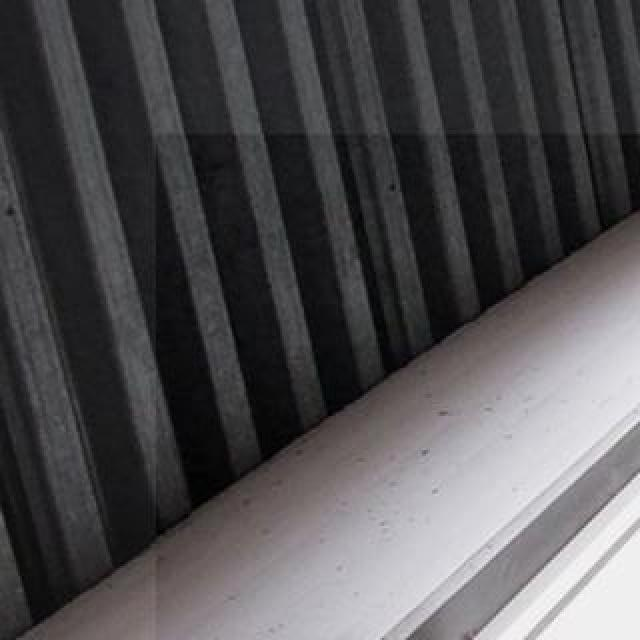fluorescent tube: (168, 126, 640, 640)
